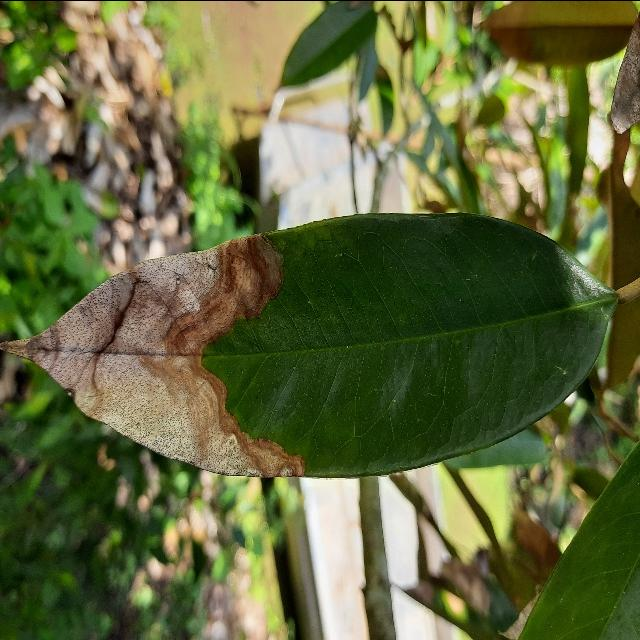Leaf Blight: (0, 201, 631, 485)
